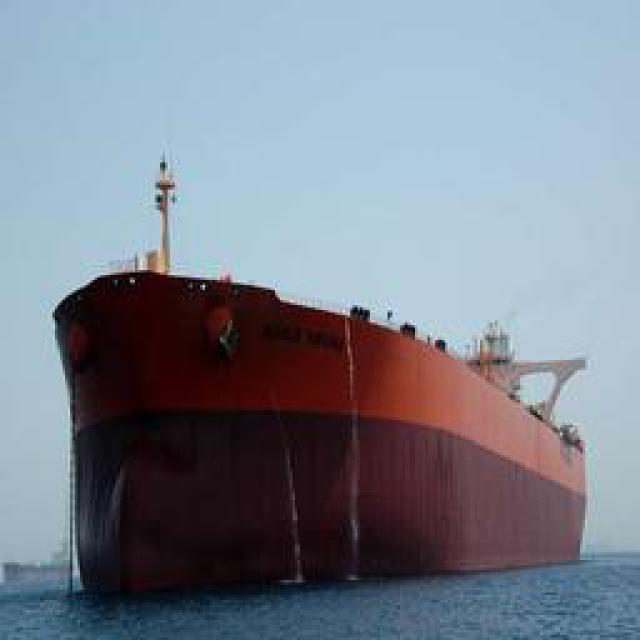Ship: (47, 270, 605, 598)
